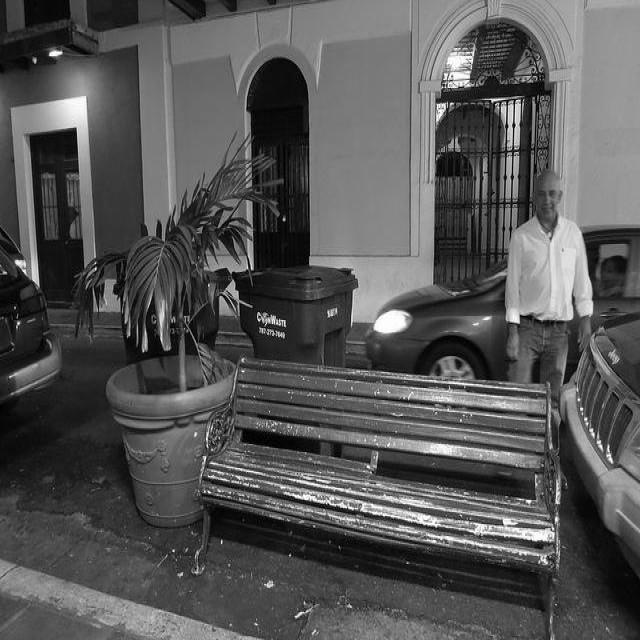vehicle: (364, 224, 640, 384), (558, 304, 640, 574), (560, 314, 640, 582), (0, 232, 62, 401), (0, 224, 27, 276)
